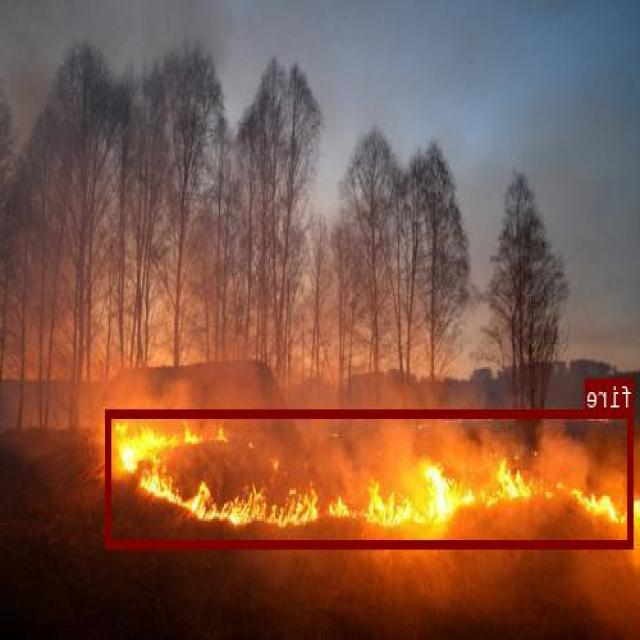fire: (107, 409, 635, 547)
